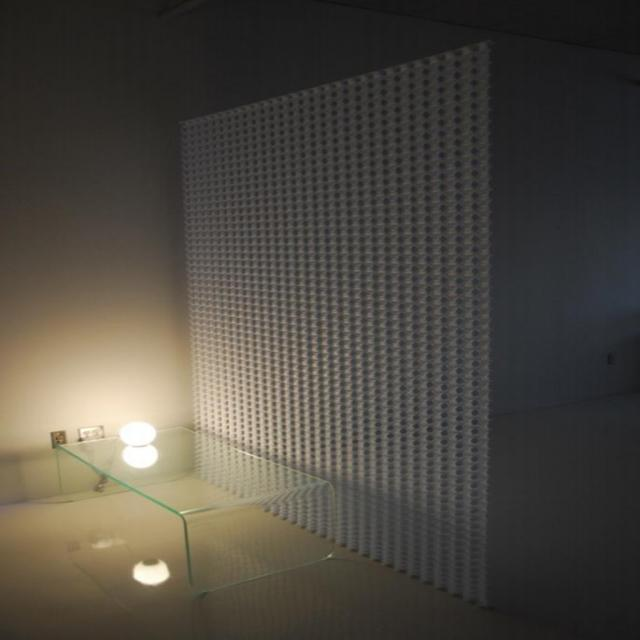table: (50, 418, 339, 592)
